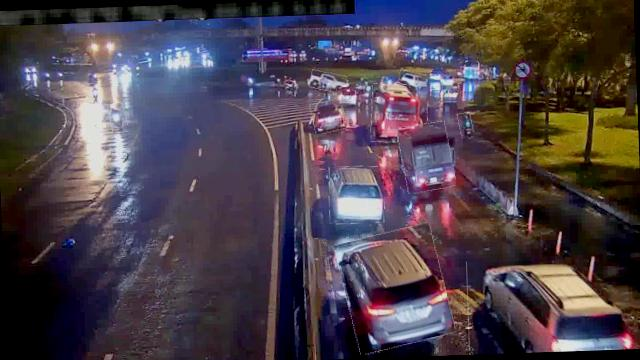Bike: (108, 102, 126, 134), (458, 113, 474, 139)
Bus: (370, 82, 429, 144)
Car: (466, 256, 634, 352), (339, 226, 451, 352), (328, 164, 385, 224), (310, 100, 346, 134), (309, 70, 348, 92), (336, 86, 362, 106), (398, 70, 427, 87)
Truck: (399, 123, 454, 194)
